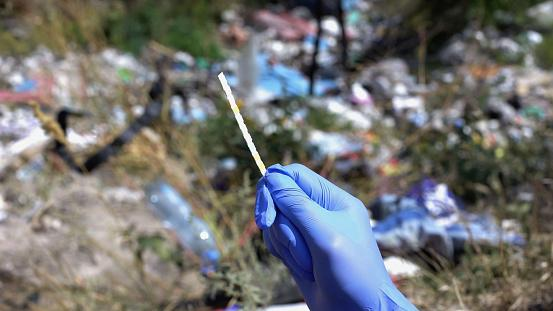Glove: (255, 164, 416, 310)
Iv_Bottle: (144, 179, 219, 273)
pill_Strip: (218, 72, 266, 176)
